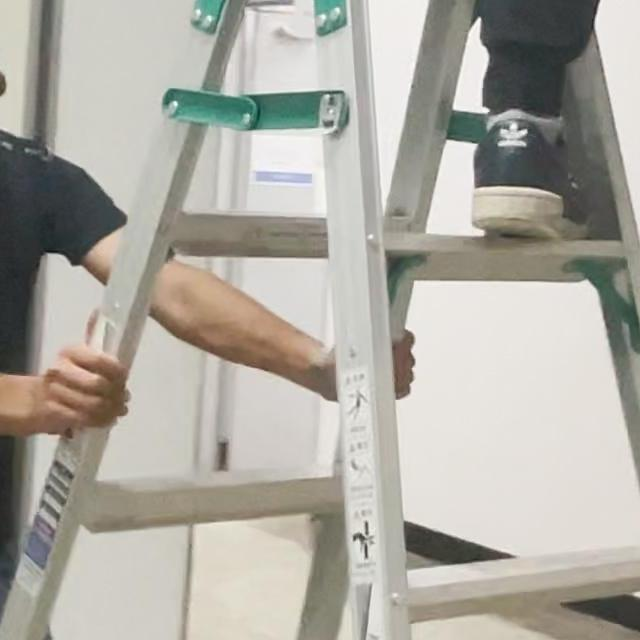Ladder: (0, 0, 640, 640)
Person: (0, 0, 413, 640)
